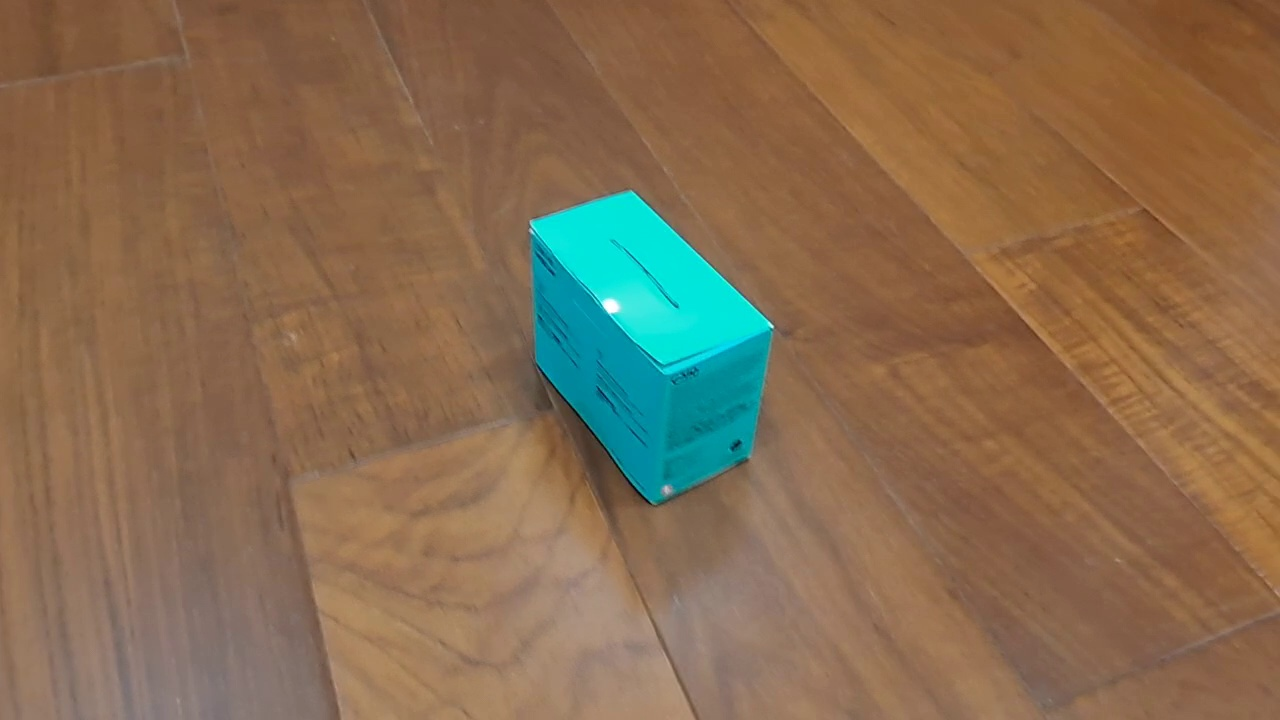webcam: (527, 188, 777, 510)
